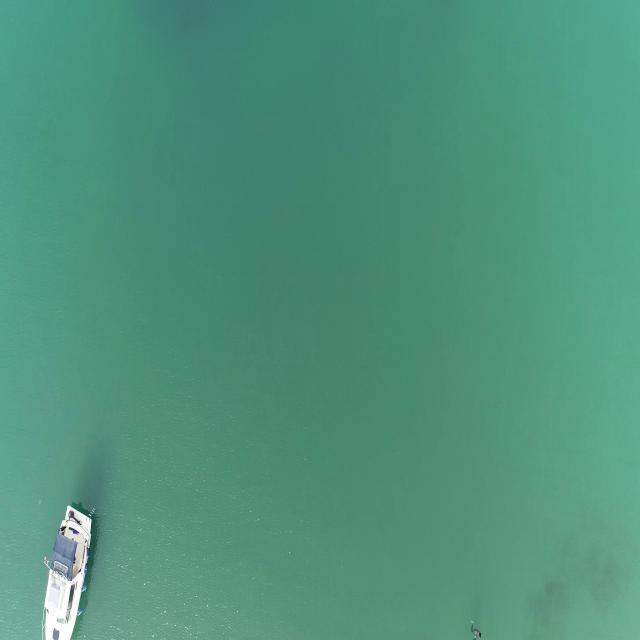boat: (37, 504, 98, 640)
person: (469, 625, 484, 640)
